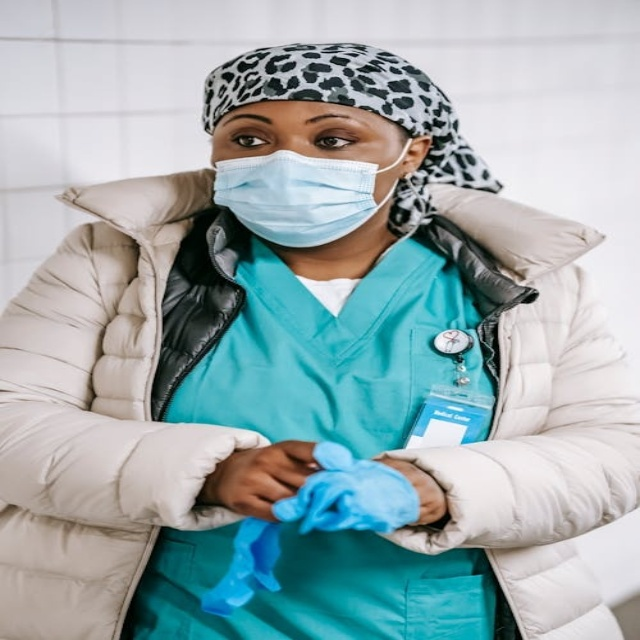Mascara: (209, 138, 402, 245)
Sin_gafas: (212, 116, 378, 154)
Sin_guantes: (203, 438, 330, 521), (371, 455, 448, 528)
